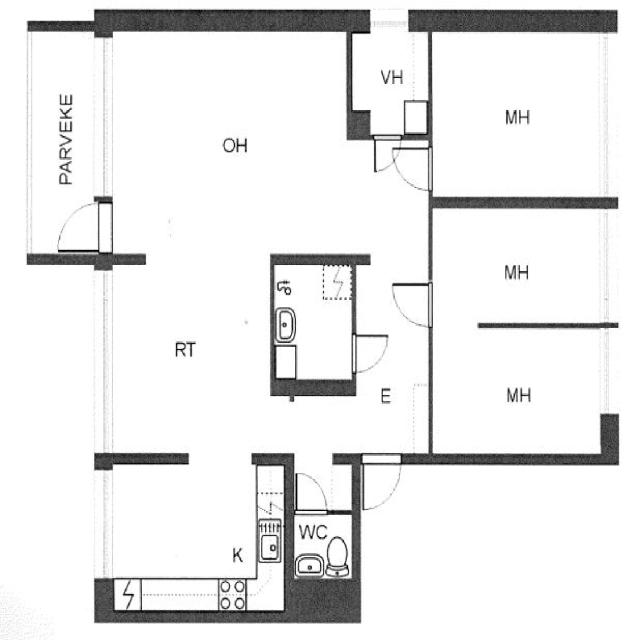door: (108, 27, 359, 240), (51, 197, 112, 254), (373, 137, 437, 190), (359, 451, 405, 510), (386, 275, 437, 328), (348, 326, 392, 376), (292, 468, 330, 515), (371, 130, 406, 177)
window: (86, 32, 123, 203), (88, 459, 124, 585), (591, 205, 618, 327), (594, 325, 616, 421), (366, 7, 416, 33)
zone: (427, 25, 608, 207), (430, 320, 612, 458), (108, 458, 258, 615), (428, 203, 610, 328), (273, 261, 355, 386), (350, 26, 431, 138), (253, 468, 287, 616), (291, 511, 354, 579), (53, 198, 114, 253)
